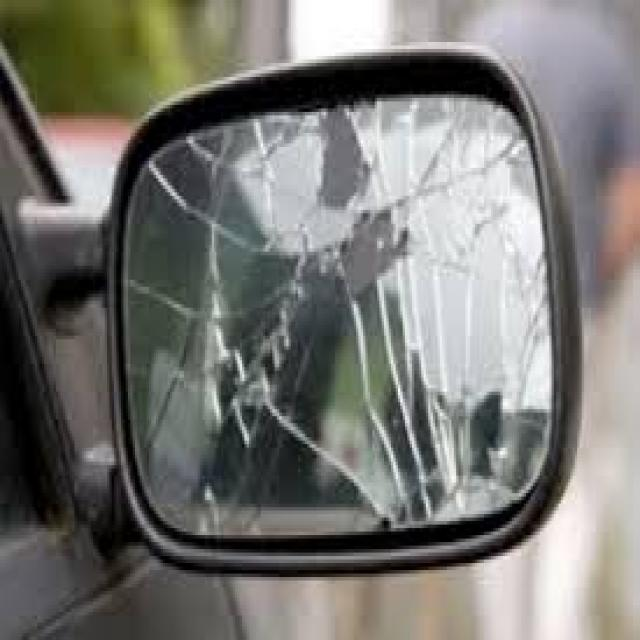minor: (118, 101, 547, 519)
